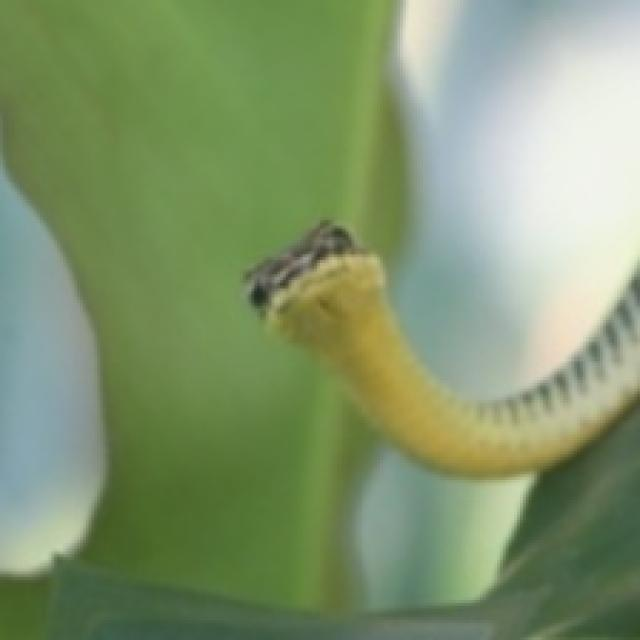paradise tree snake: (249, 0, 637, 474)
